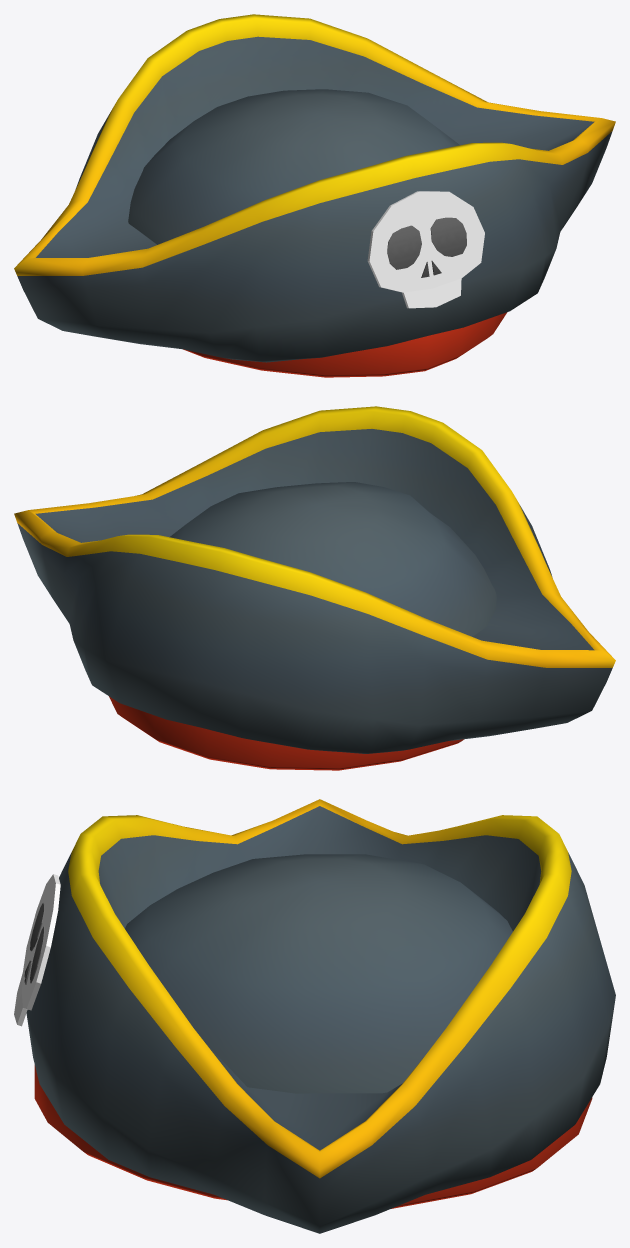
File: Hat_Pirate.fbx
3 views of the same model, one above another, from view 1: azimuth 30°, elevation 25°; view 2: azimuth 150°, elevation 25°; view 3: azimuth 270°, elevation 25° (orthographic). The views are drawn at different scales.
Parts seen in each view (by area): view 1: Hat_Pirate; view 2: Hat_Pirate; view 3: Hat_Pirate.
Boxes of the visible parts, x1,y1,x2,y2 form: Hat_Pirate: (14,14,615,377); Hat_Pirate: (14,406,615,770); Hat_Pirate: (14,799,615,1233).
Size of the model in its own units: 197 by 63.01 by 135.
